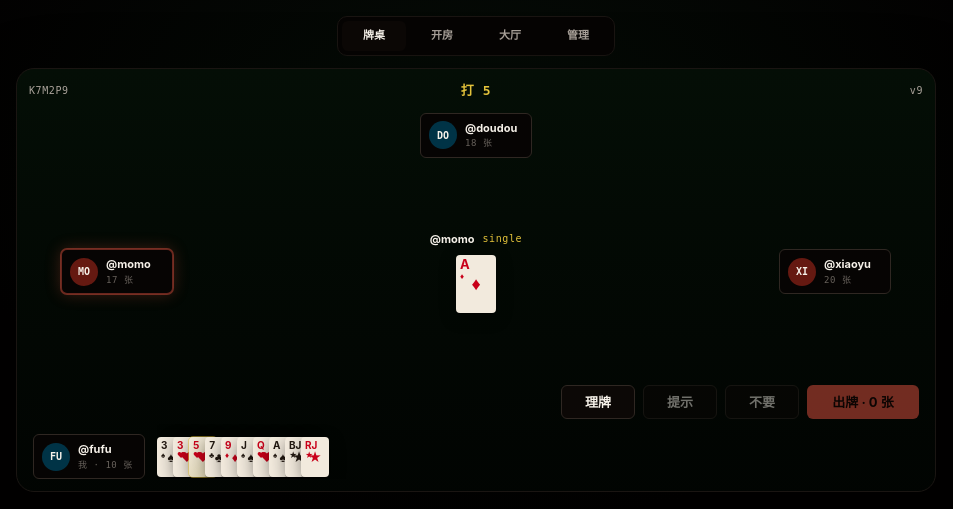
Scenario: App shell › renders an injected game table and supports card selection
Expected: the text "K7M2P9" is shown, x1=29 y1=85 x2=69 y2=96
Expected: the text "打 5" is shown, x1=461 y1=81 x2=491 y2=100
Click the button named "3 of spades" at coordinates (171, 457), box x1=157 y1=437 x2=185 y2=477
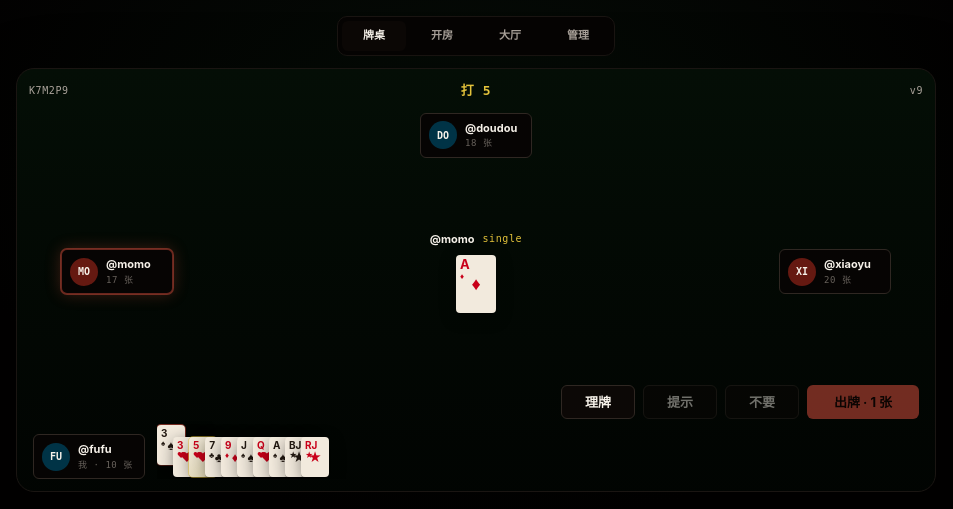
Now the button "出牌 · 1 张" is shown, box x1=807 y1=385 x2=919 y2=419
